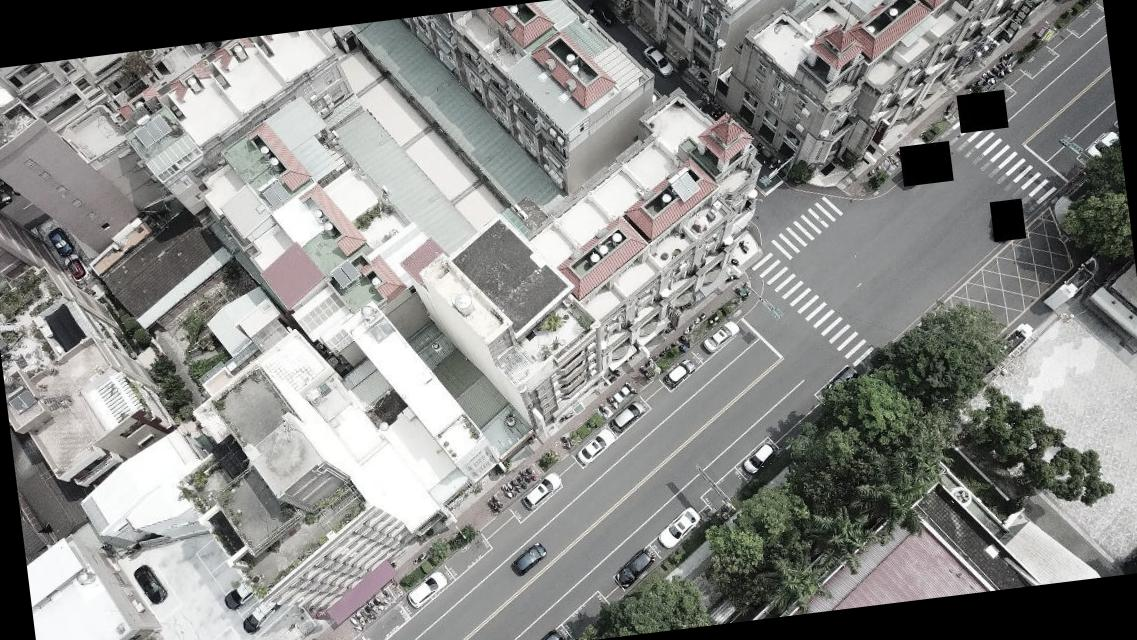vehicle: (654, 506, 703, 550), (612, 546, 657, 590), (403, 570, 450, 610), (572, 427, 618, 467), (518, 471, 564, 511), (132, 560, 170, 606), (239, 597, 283, 635), (700, 319, 742, 353), (509, 542, 550, 576), (660, 357, 698, 390), (741, 442, 778, 475), (608, 400, 646, 432), (640, 43, 673, 79), (1085, 128, 1120, 158), (587, 0, 618, 30), (222, 582, 254, 611), (47, 225, 74, 258), (63, 251, 91, 282), (825, 363, 859, 388), (530, 626, 565, 639)
